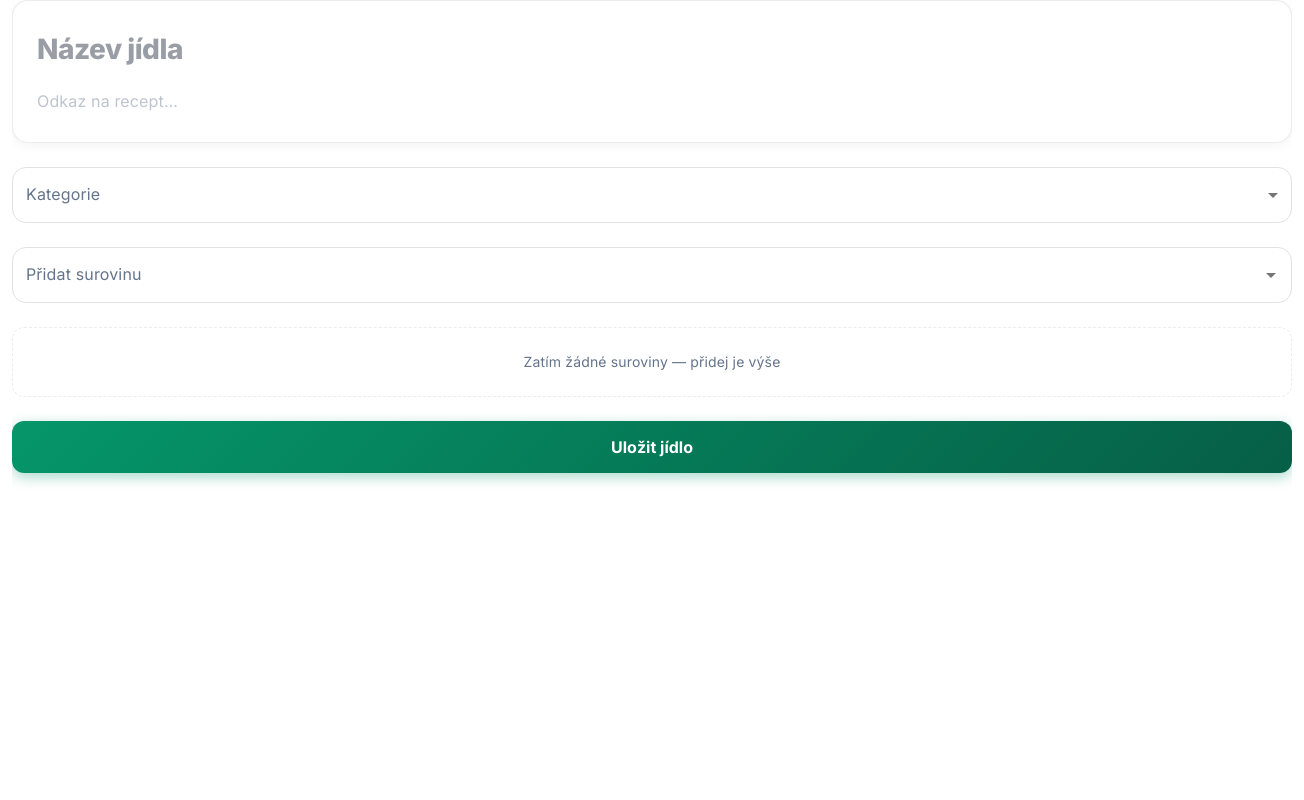
Test: MealsForm › should show 'Přidej suroviny' and not submit when itemsList is empty
This screenshot has width=1304, height=800.
Step 1. Type "Snídaně" into the field with placeholder "Název jídla" → (652, 50), box [37,25,1267,74]
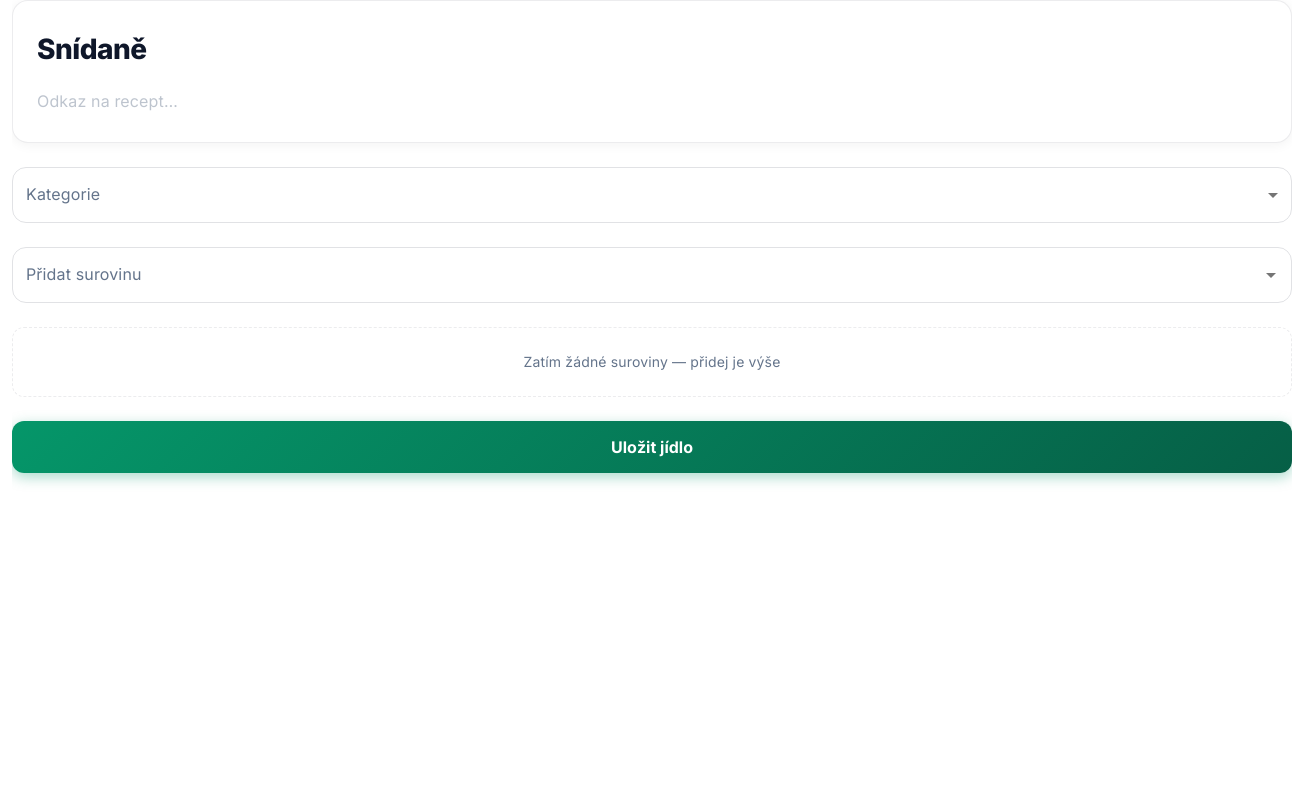
Step 2. Click the button "Uložit jídlo" → (652, 447), box [12,421,1292,473]
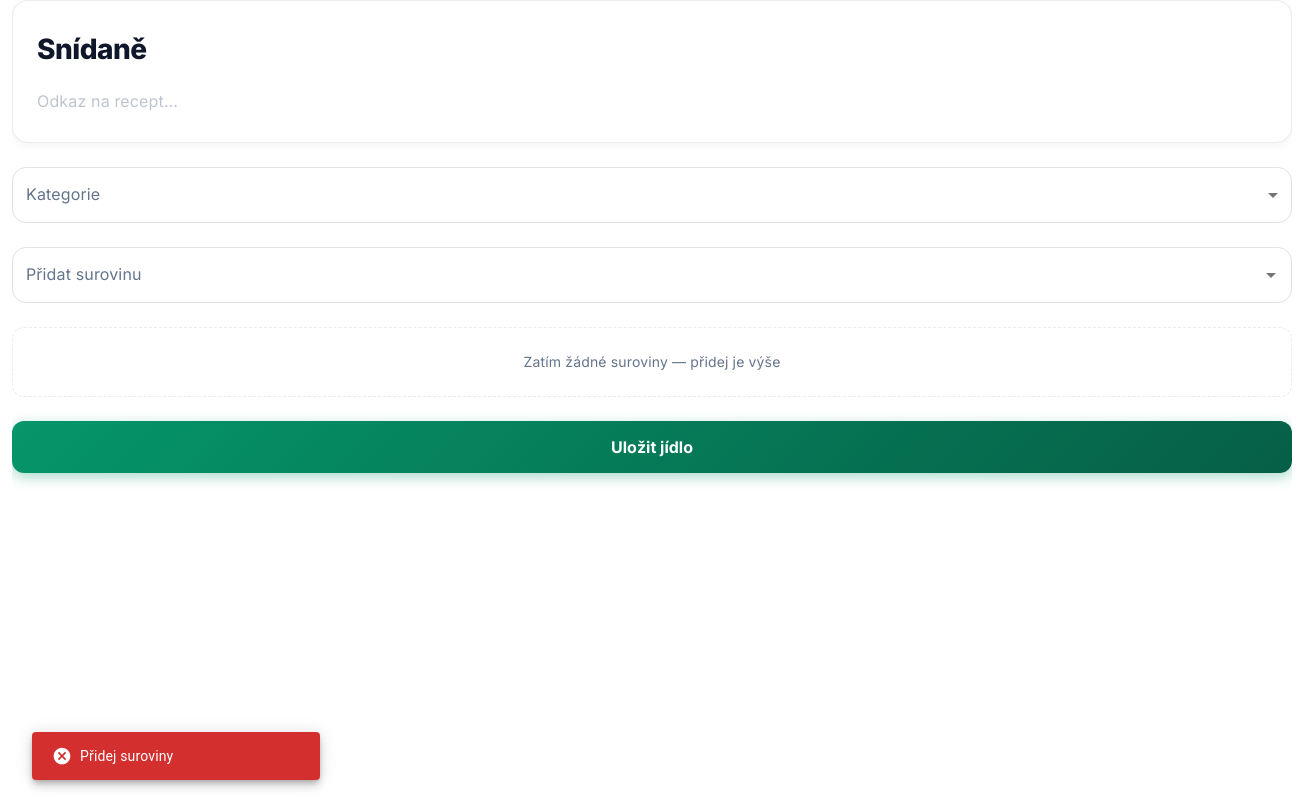
Now the text "Přidej suroviny" is shown, box [52,746,173,766]
